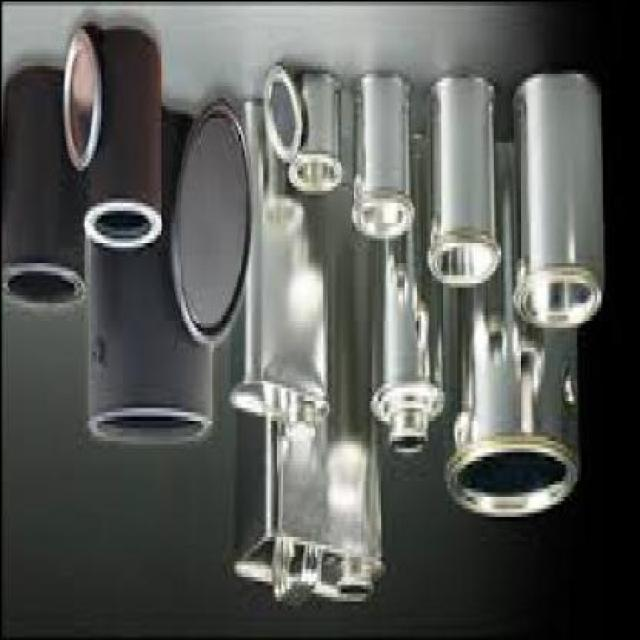METAL: (233, 93, 387, 604), (443, 141, 582, 524), (87, 113, 215, 447), (222, 96, 330, 447), (371, 129, 446, 463), (512, 76, 608, 335), (172, 97, 253, 346), (4, 68, 85, 306), (82, 25, 162, 254), (429, 81, 503, 290), (351, 77, 415, 246), (290, 68, 342, 198), (62, 28, 104, 177), (265, 68, 304, 161)
